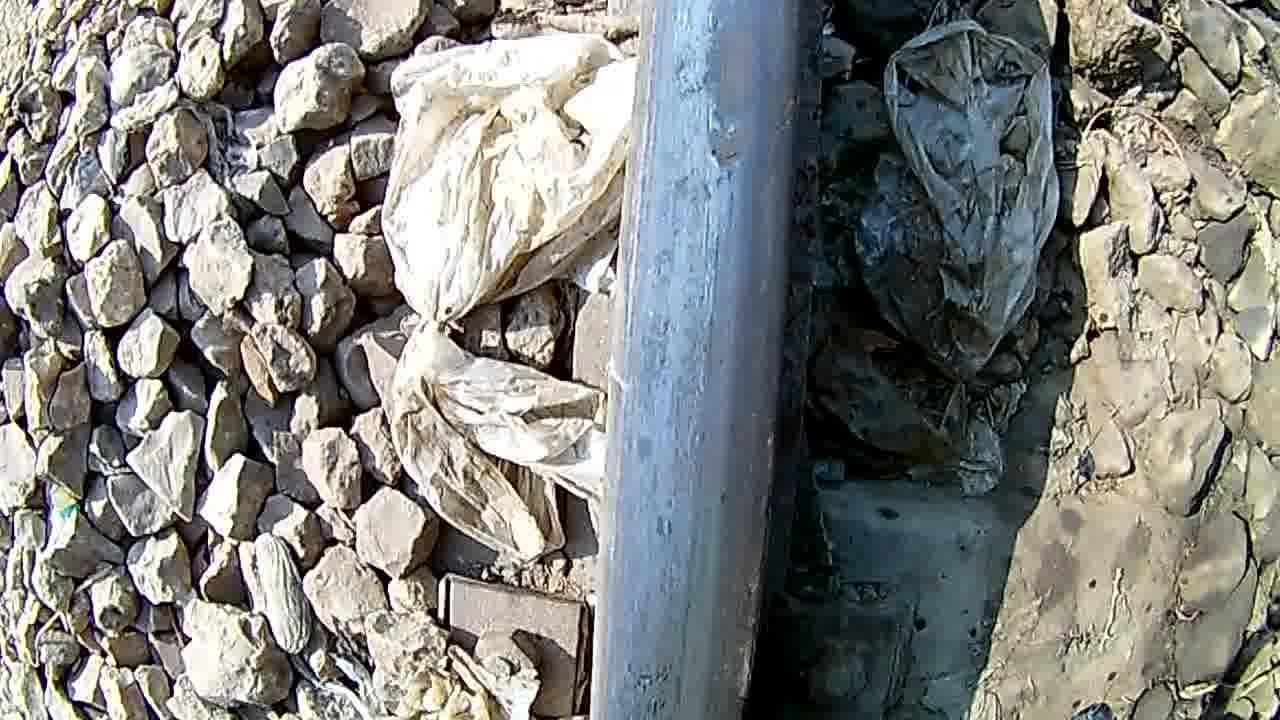crack: (644, 2, 804, 368)
